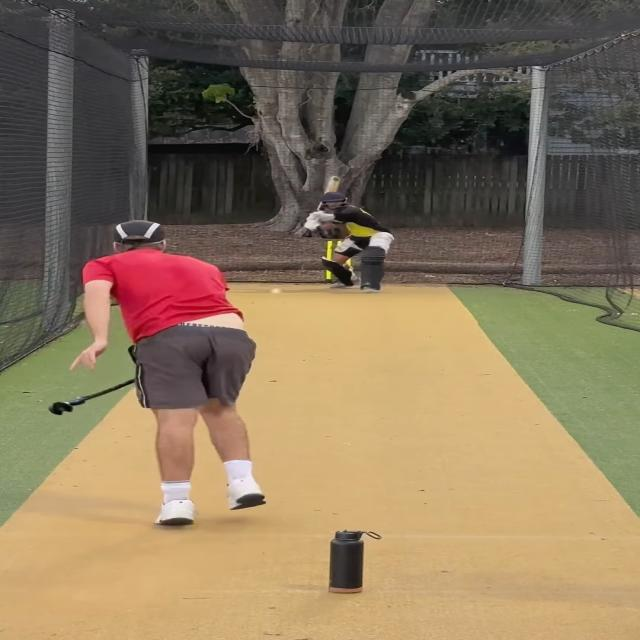ball: (270, 287, 284, 295)
stump: (324, 238, 355, 284)
